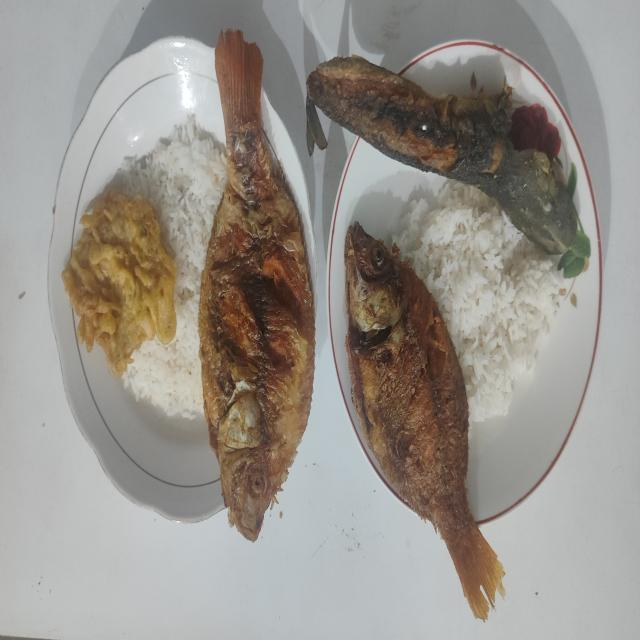ikan_mujair: (344, 222, 505, 620), (199, 29, 315, 540)
nasi_putih: (391, 180, 562, 422), (110, 116, 227, 420)
